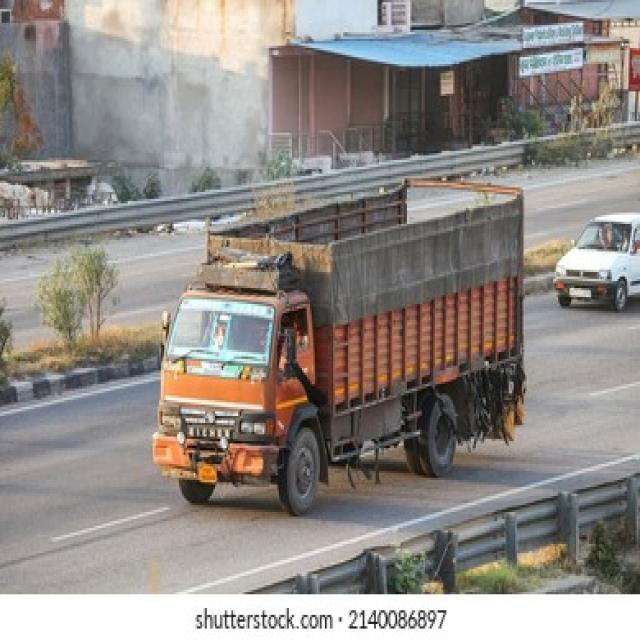car: (558, 209, 640, 310)
truck: (147, 179, 528, 518)
